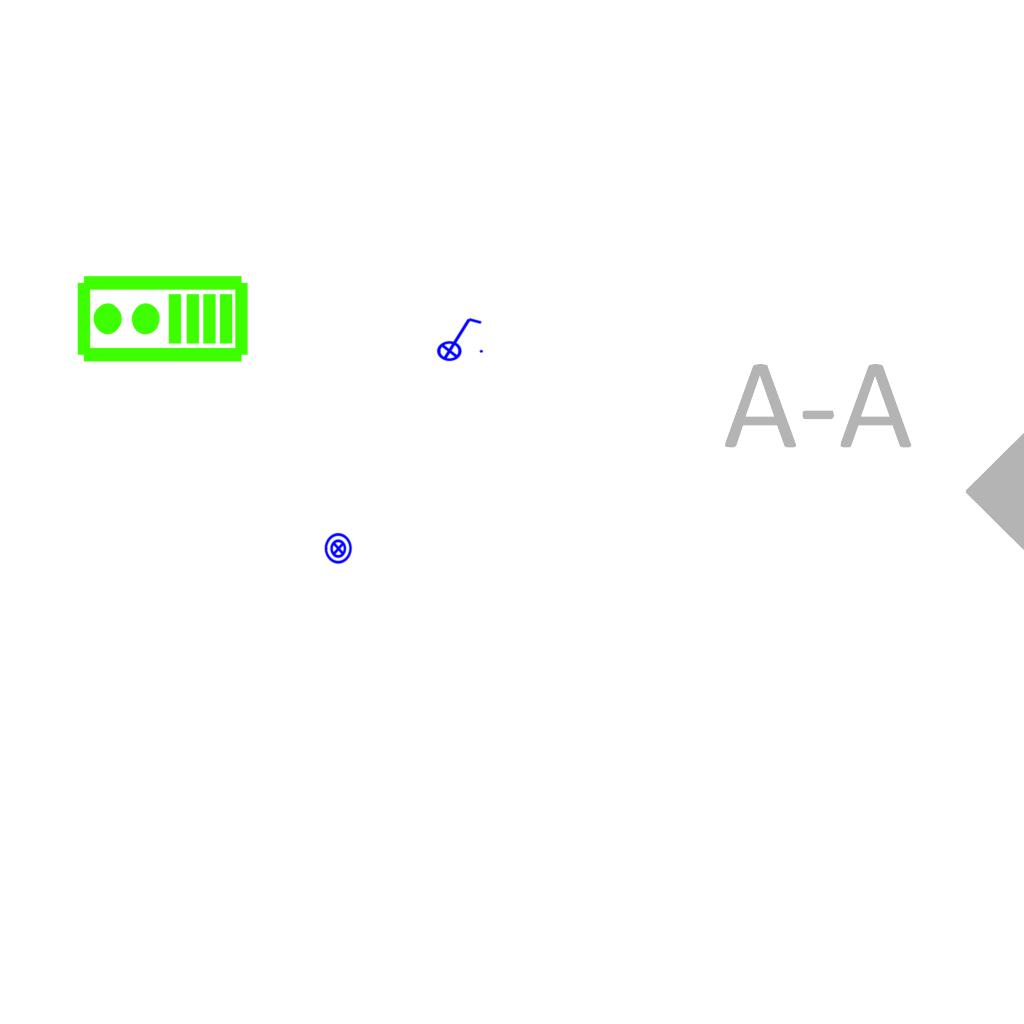Ausschalter_beleuchtet: (430, 314, 486, 362)
Gegensprechanlage_mit_Video: (74, 273, 250, 368)
Taster_beleuchtet: (322, 532, 355, 565)
